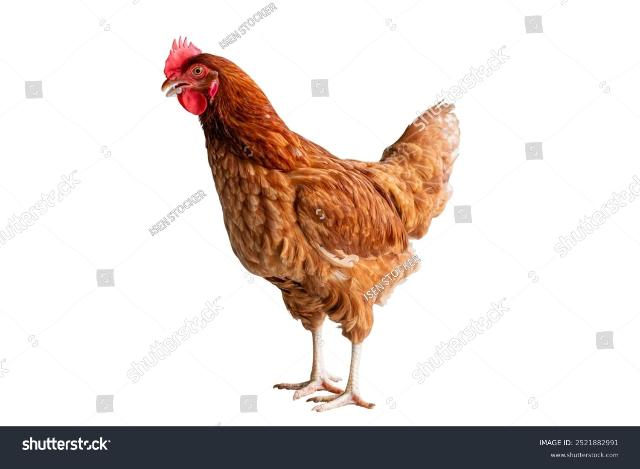Chicken: (157, 35, 464, 414)
